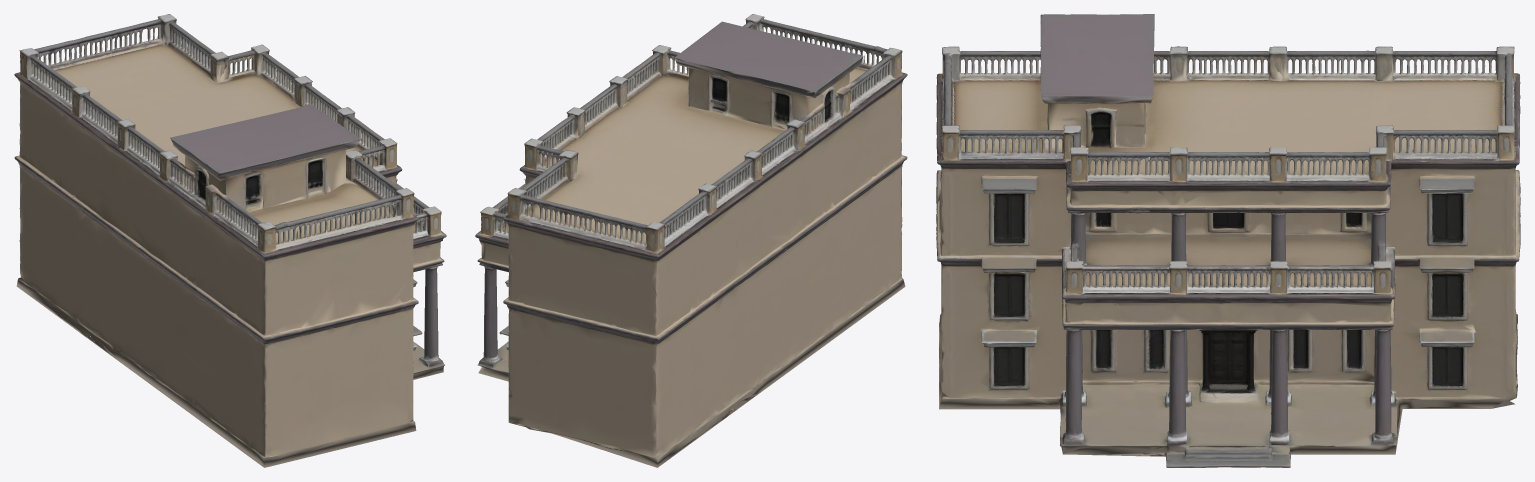
Rendered from ConferenceCenter.glb.
The picture shows the model from 3 angles, left to right: view 1: azimuth 30°, elevation 25°; view 2: azimuth 150°, elevation 25°; view 3: azimuth 270°, elevation 25°; orthographic projection. The views are drawn at different scales.
Parts seen in each view (by area): view 1: tripo_node_840e917d-d614-420e-b4f9-6c8bf3b318d0; view 2: tripo_node_840e917d-d614-420e-b4f9-6c8bf3b318d0; view 3: tripo_node_840e917d-d614-420e-b4f9-6c8bf3b318d0.
Part boxes in pixels (bbox=[...]): tripo_node_840e917d-d614-420e-b4f9-6c8bf3b318d0: bbox=[14, 14, 446, 467]; tripo_node_840e917d-d614-420e-b4f9-6c8bf3b318d0: bbox=[475, 14, 907, 467]; tripo_node_840e917d-d614-420e-b4f9-6c8bf3b318d0: bbox=[936, 14, 1520, 467].
Size of the model in its own units: 0.5841 by 0.5705 by 0.9807.
1 material, 1 textured.
